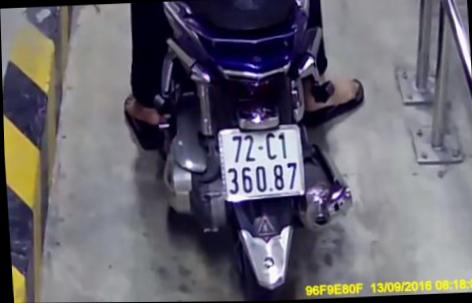LP: (218, 125, 306, 202)
